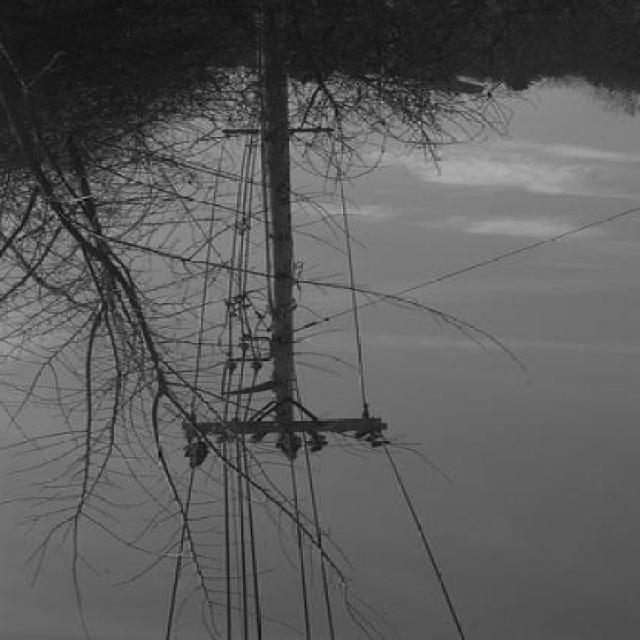pole: (179, 11, 392, 472)
